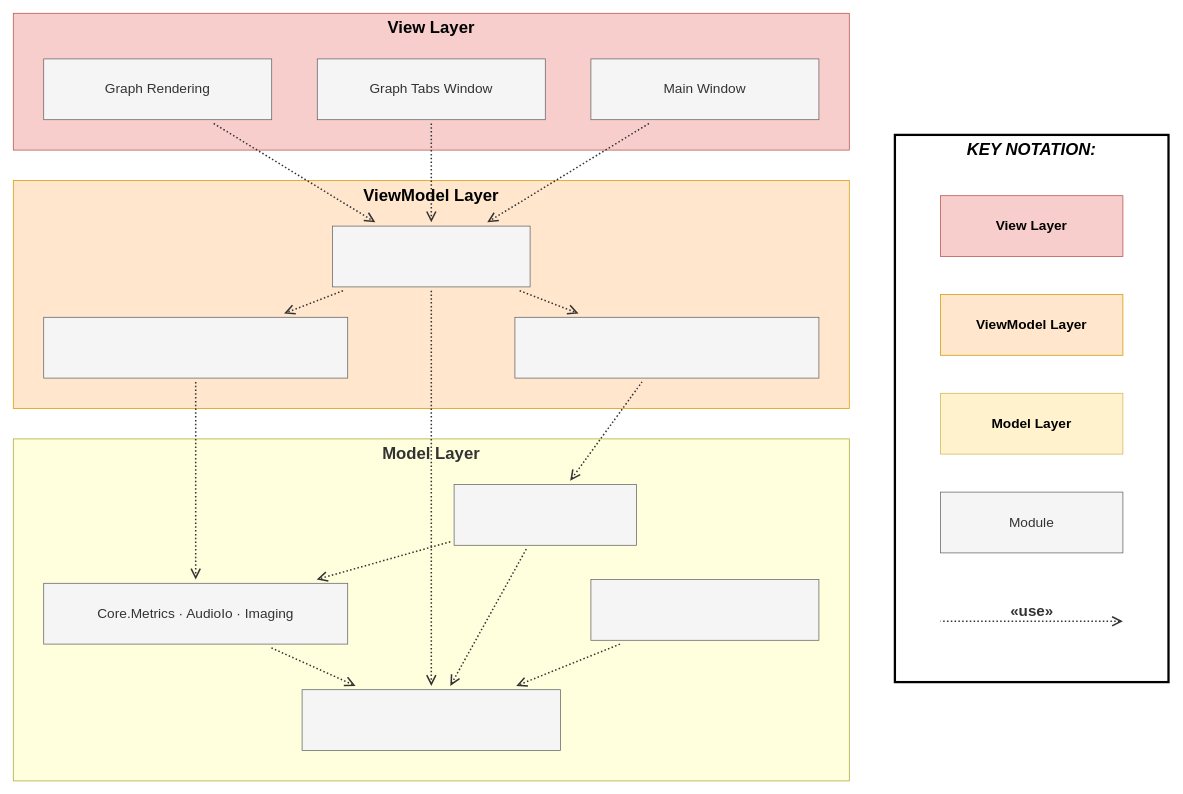
The diagram is 1183 pixels wide and 794 high, and some of its shapes have lost their labels. Here are the shapes that lost their labels. From the top down, the centre of each, then its label:
(x=431, y=256): MainWindowViewModel UI state · binding properties
(x=195, y=347): Input · display coordination AudioDeviceController
(x=666, y=347): Run · session coordination
(x=544, y=514): Core.Analysis Detection
(x=704, y=609): Platform.WindowsAudio LinuxAudio
(x=430, y=719): Core.Shared
